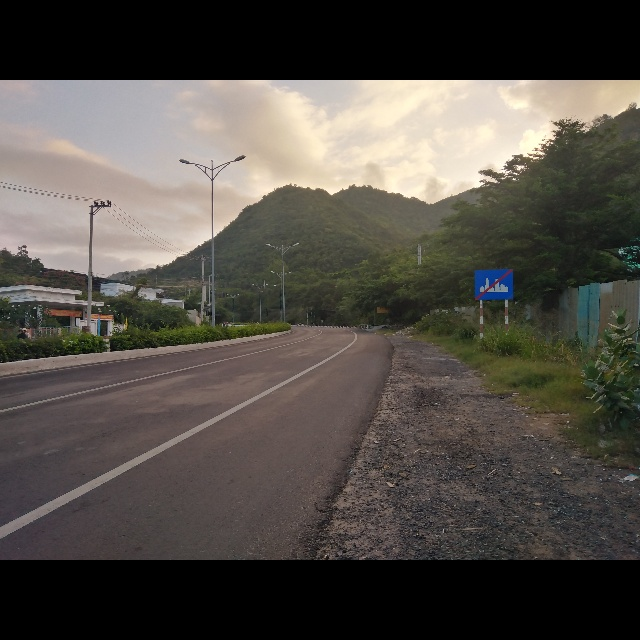Hết khu đông dân cư: (473, 267, 514, 301)
